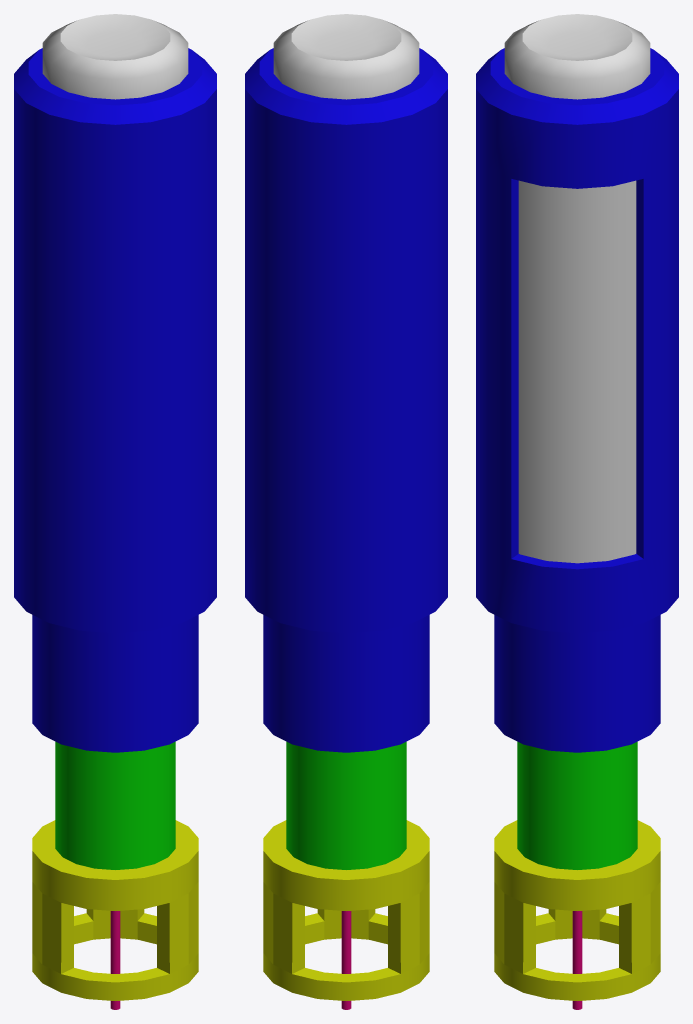
The model's file is stim.fbx.
3 renders of one model, left to right at view 1: azimuth 30°, elevation 25°; view 2: azimuth 150°, elevation 25°; view 3: azimuth 270°, elevation 25°, orthographic.
Parts seen in each view (by area): view 1: Stim_Base, Button; view 2: Stim_Base, Button; view 3: Stim_Base, Tube, Button.
Part boxes in pixels (box(x1,y1,x2,y2)): Stim_Base: box(14, 48, 216, 1009); Button: box(42, 14, 188, 99); Stim_Base: box(245, 48, 447, 1009); Button: box(273, 14, 419, 99); Stim_Base: box(476, 48, 678, 1009); Tube: box(518, 180, 636, 563); Button: box(504, 14, 650, 99).
Bounding box in the file's own units: 2.94 × 15.26 × 2.89.
